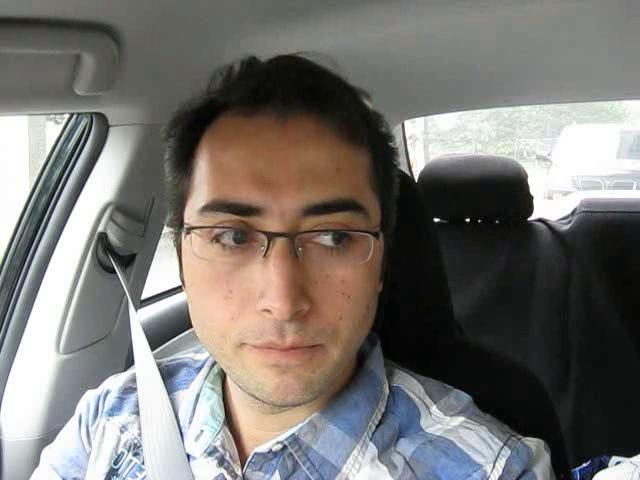no_yawn: (217, 321, 344, 379)
open_eyeL: (190, 214, 261, 263)
open_eyeR: (289, 215, 371, 269)
